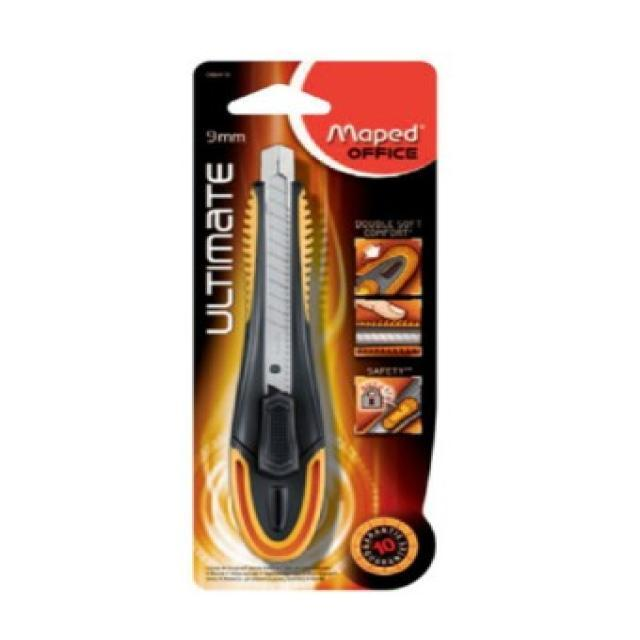cutter: (222, 142, 338, 570)
